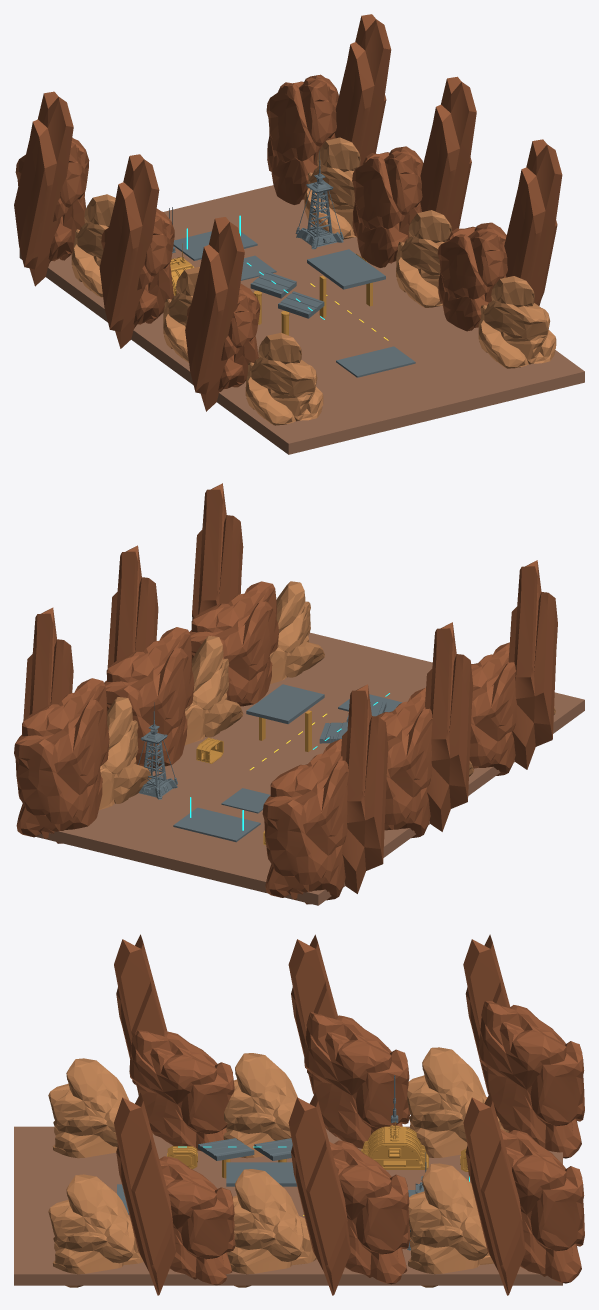
Rendered from ridge-run-shell.glb.
3 renders of one model, top to bottom at view 1: azimuth 30°, elevation 25°; view 2: azimuth 150°, elevation 25°; view 3: azimuth 270°, elevation 25°, orthographic. The views are drawn at different scales.
Parts seen in each view (by area): view 1: Ridge_oxidized basalt, Ridge_dust, Ridge_sunlit strata, Outpost_graphite steel, Outpost_ochre panels; view 2: Ridge_oxidized basalt, Ridge_dust, Ridge_sunlit strata, Outpost_graphite steel, Outpost_ochre panels; view 3: Ridge_oxidized basalt, Ridge_sunlit strata, Ridge_dust, Outpost_graphite steel, Outpost_ochre panels.
Boxes of the visible parts, x1,y1,x2,y2 form: Ridge_oxidized basalt: (14,14,562,411); Ridge_dust: (19,185,584,454); Ridge_sunlit strata: (71,137,556,425); Outpost_graphite steel: (169,151,415,377); Outpost_ochre panels: (170,243,372,335); Ridge_oxidized basalt: (14,483,557,904); Ridge_dust: (36,632,584,905); Ridge_sunlit strata: (99,581,555,809); Outpost_graphite steel: (138,684,402,842); Outpost_ochre panels: (196,710,311,845); Ridge_oxidized basalt: (114,934,584,1295); Ridge_sunlit strata: (48,1047,508,1287); Ridge_dust: (14,1126,562,1285); Outpost_graphite steel: (117,1075,426,1250); Outpost_ochre panels: (167,1121,468,1178).
Size of the model in its own units: 68 by 36 by 91.5.
